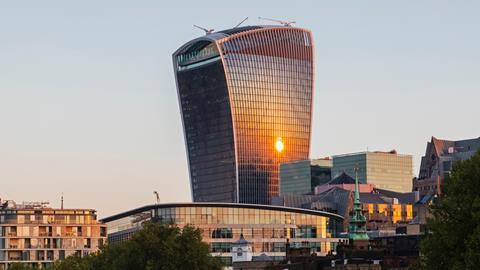Walkie talkie: (157, 12, 322, 201)
